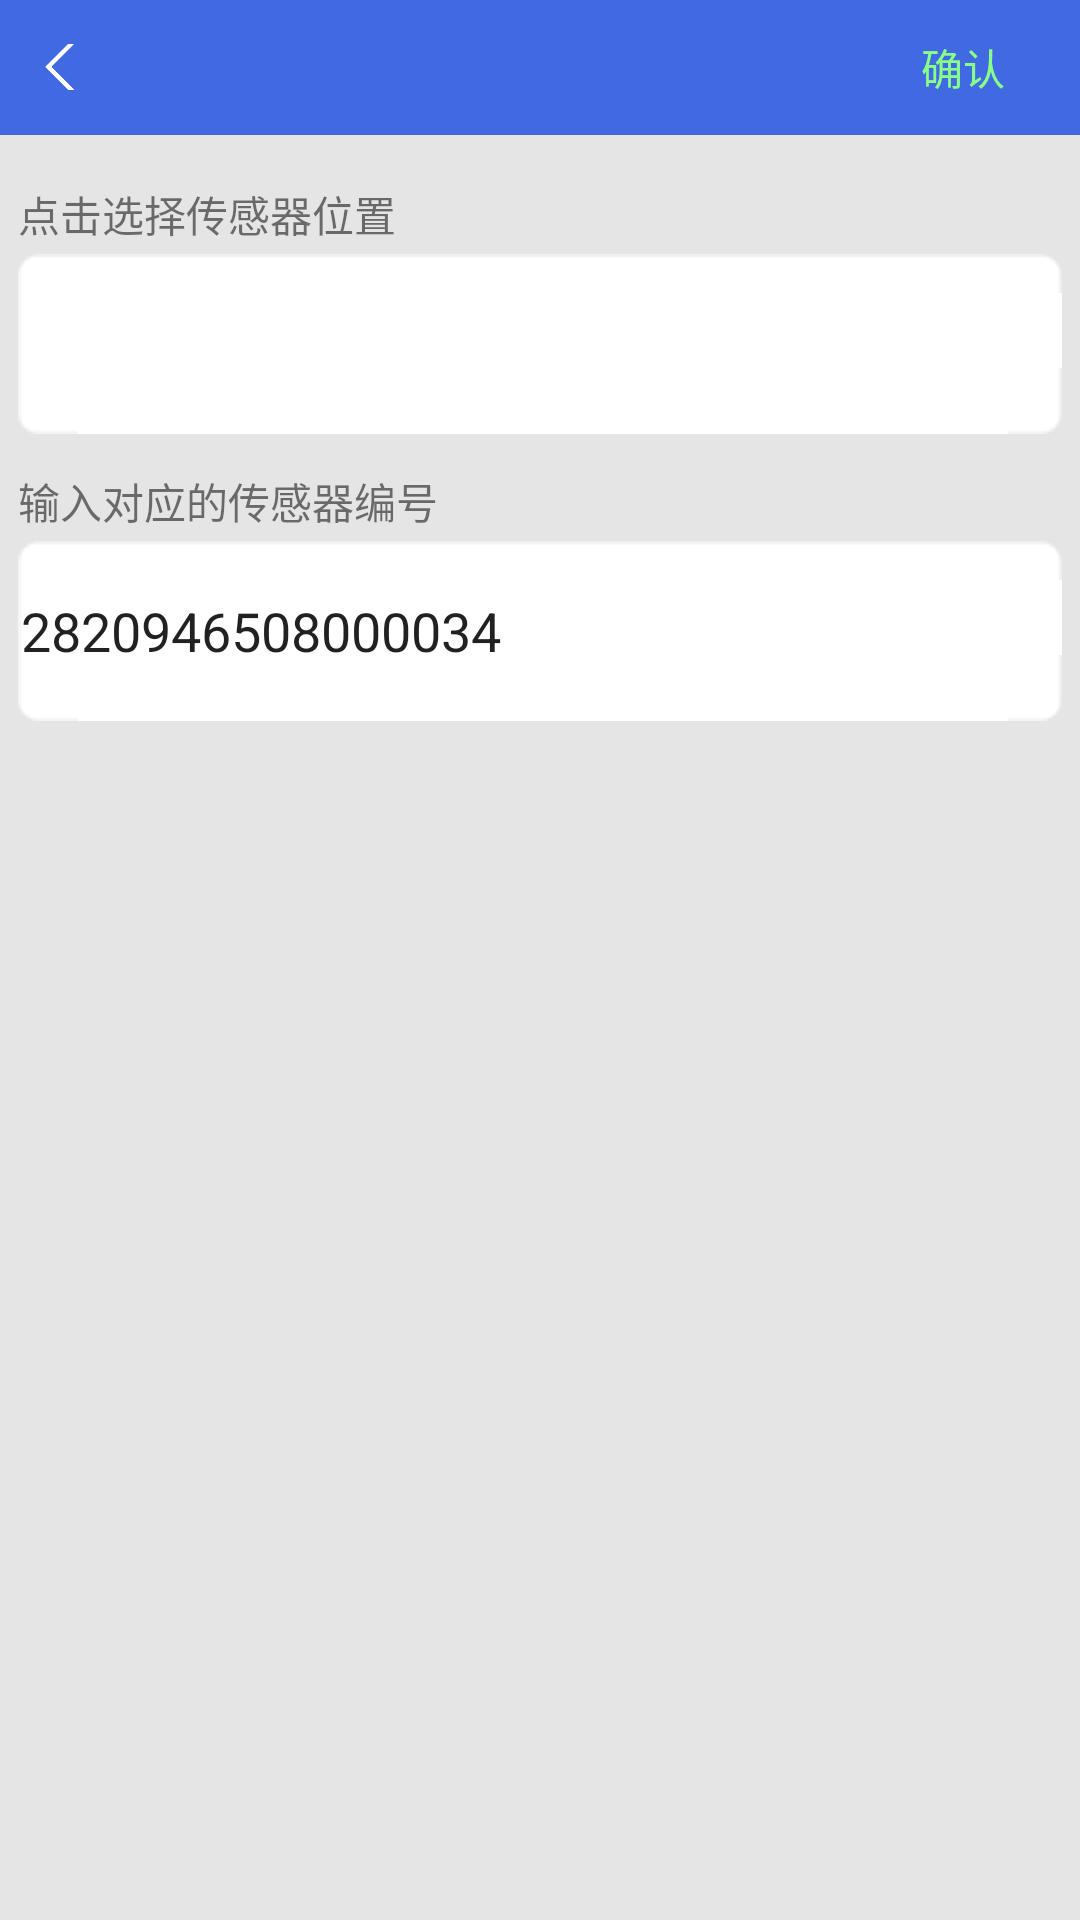

Icons on this 1080x1920 Android screen, each with the point to tap as (x,y):
title back: (59,67)
